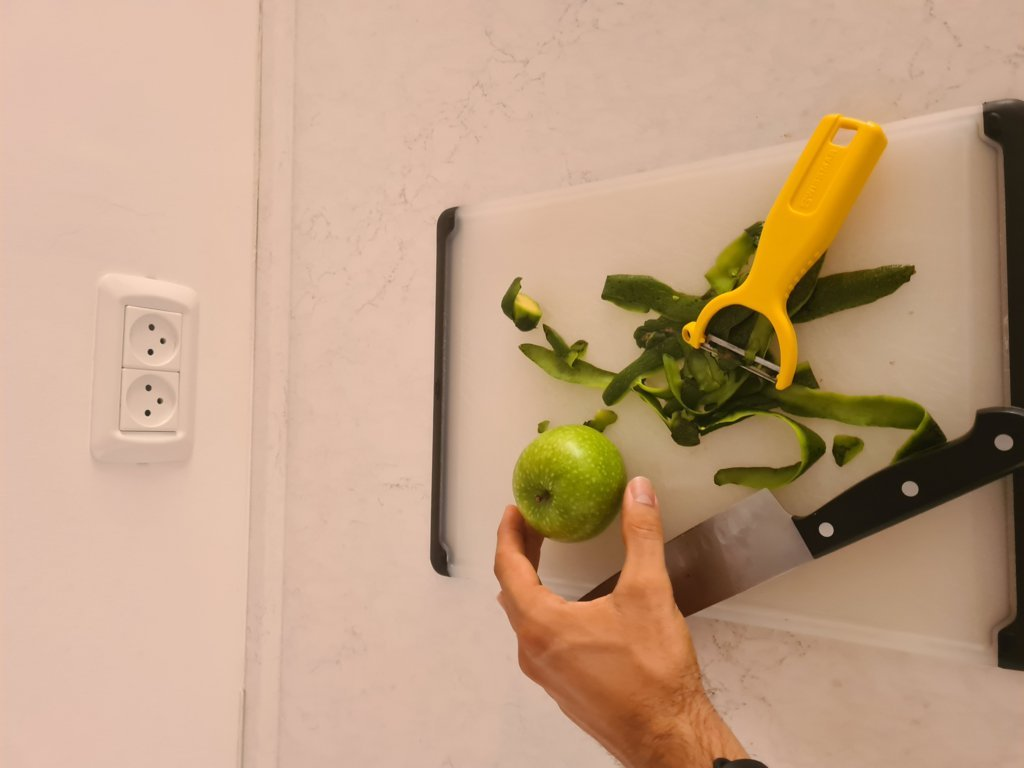apple: (508, 420, 629, 540)
